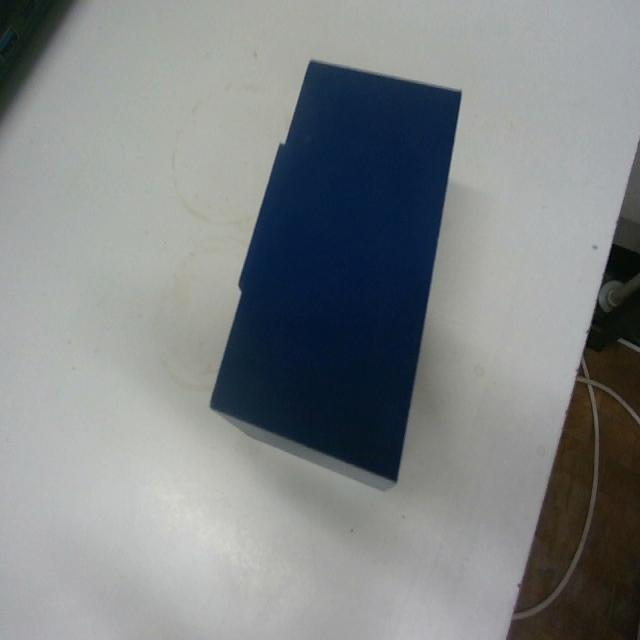Blue Cuboid: (208, 56, 462, 491)
